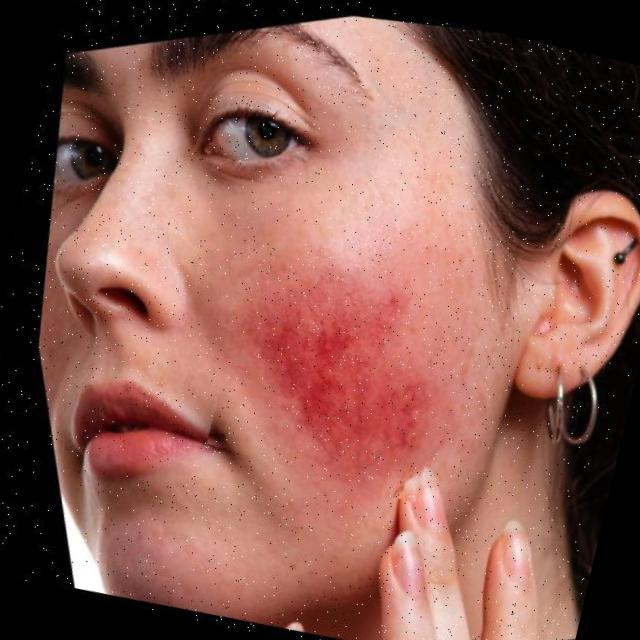redness: (236, 269, 432, 495)
